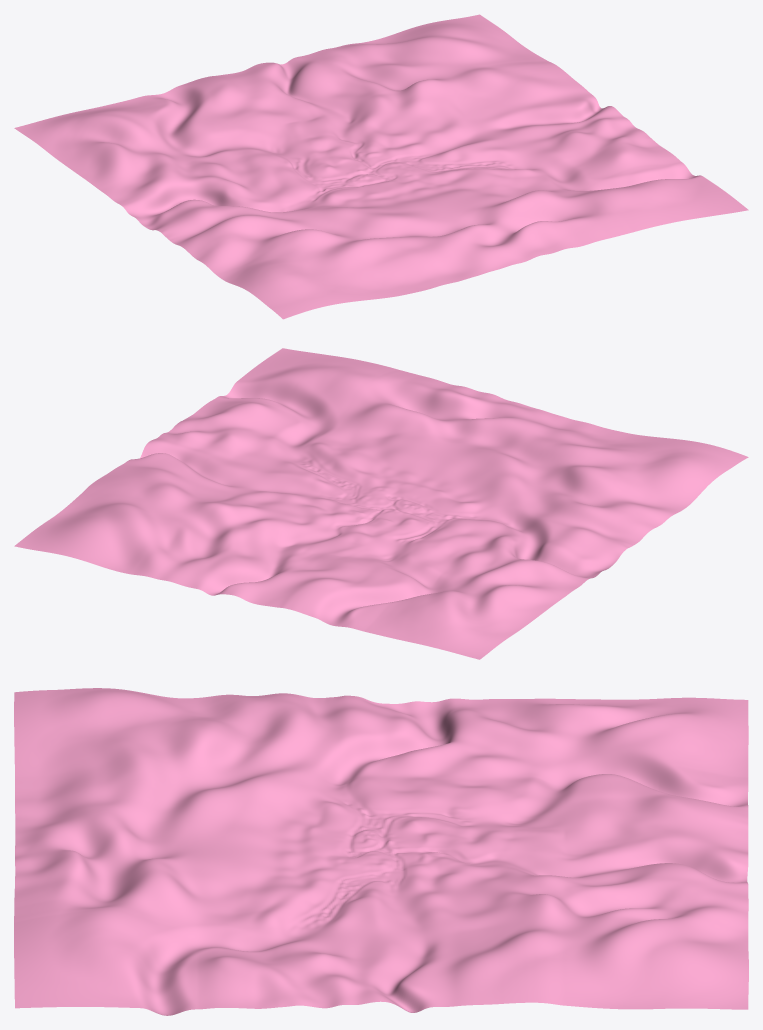
File: Ground.fbx
The picture shows the model from 3 angles, top to bottom: view 1: azimuth 30°, elevation 25°; view 2: azimuth 150°, elevation 25°; view 3: azimuth 270°, elevation 25°; orthographic projection. The views are drawn at different scales.
Parts seen in each view (by area): view 1: Ground; view 2: Ground; view 3: Ground.
Part boxes in pixels (x1,y1,x2,y2): Ground: [14, 14, 748, 319]; Ground: [14, 348, 748, 659]; Ground: [14, 688, 748, 1015].
Size of the model in its own units: 100185 by 100251 by 6428.
